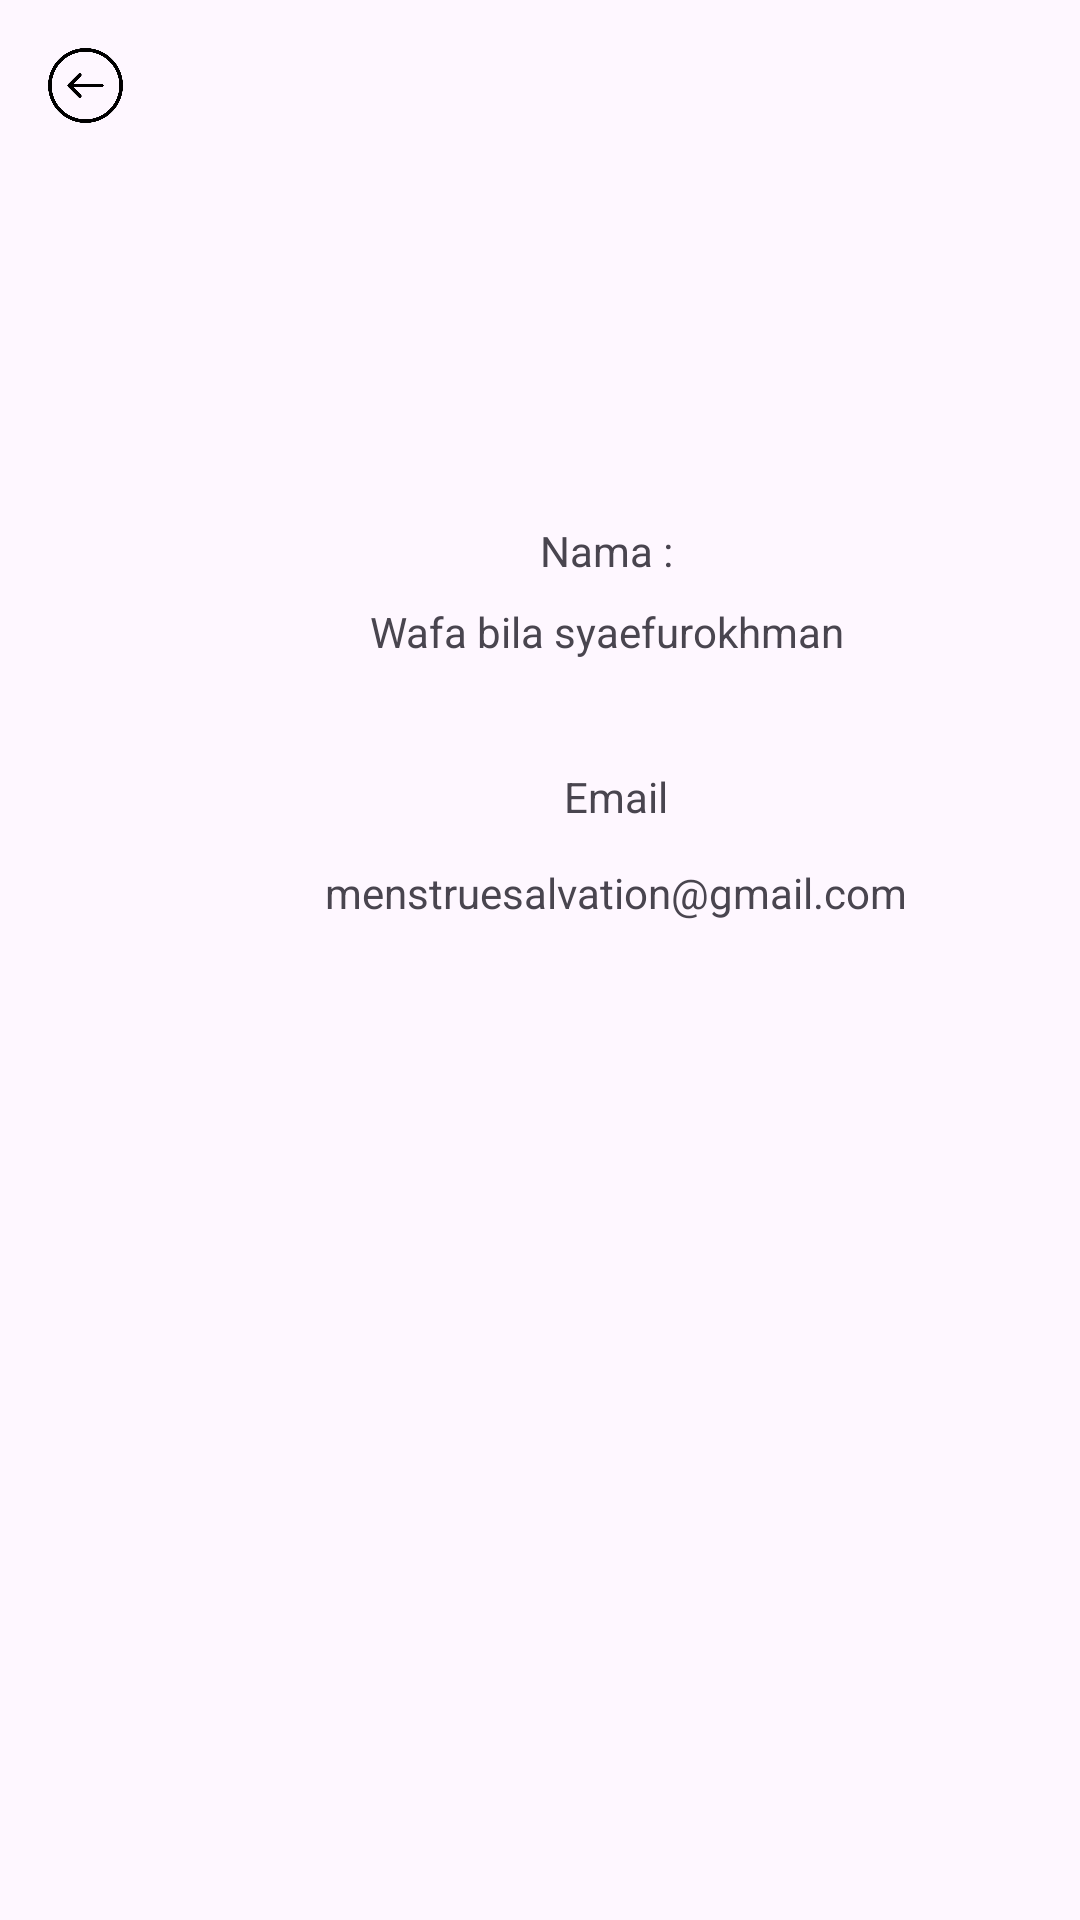

Screen size 1080w x 1920h. Icon name, then its box in pixels as (left=x1, top=y1, right=x2, bottom=y2):
back: (left=48, top=48, right=123, bottom=123)
